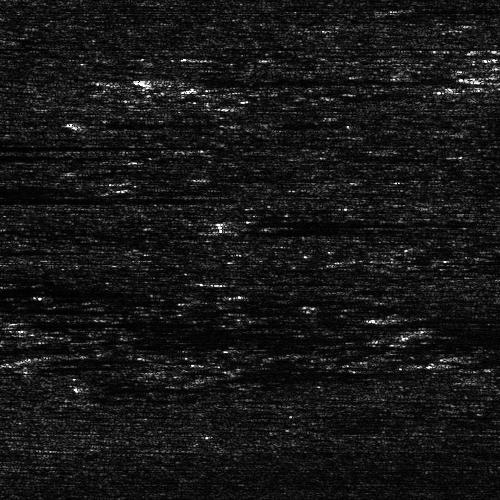rock: (397, 68, 500, 85), (189, 219, 272, 238), (92, 76, 207, 85), (27, 118, 110, 125), (227, 119, 290, 126), (168, 279, 251, 284), (373, 314, 436, 319), (482, 224, 500, 231), (231, 218, 252, 221)
shadow: (0, 185, 197, 206), (231, 219, 372, 238), (150, 76, 429, 85), (0, 148, 183, 161), (0, 139, 155, 152), (69, 118, 206, 125), (210, 279, 351, 284), (242, 218, 454, 221), (259, 119, 331, 126), (405, 314, 500, 319), (0, 342, 26, 353), (0, 247, 55, 252)
